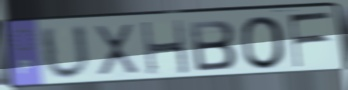B: (188, 18, 239, 73)
F: (287, 10, 333, 70)
H: (139, 18, 192, 77)
O: (239, 14, 289, 71)
U: (38, 22, 94, 83)
X: (92, 22, 142, 77)
